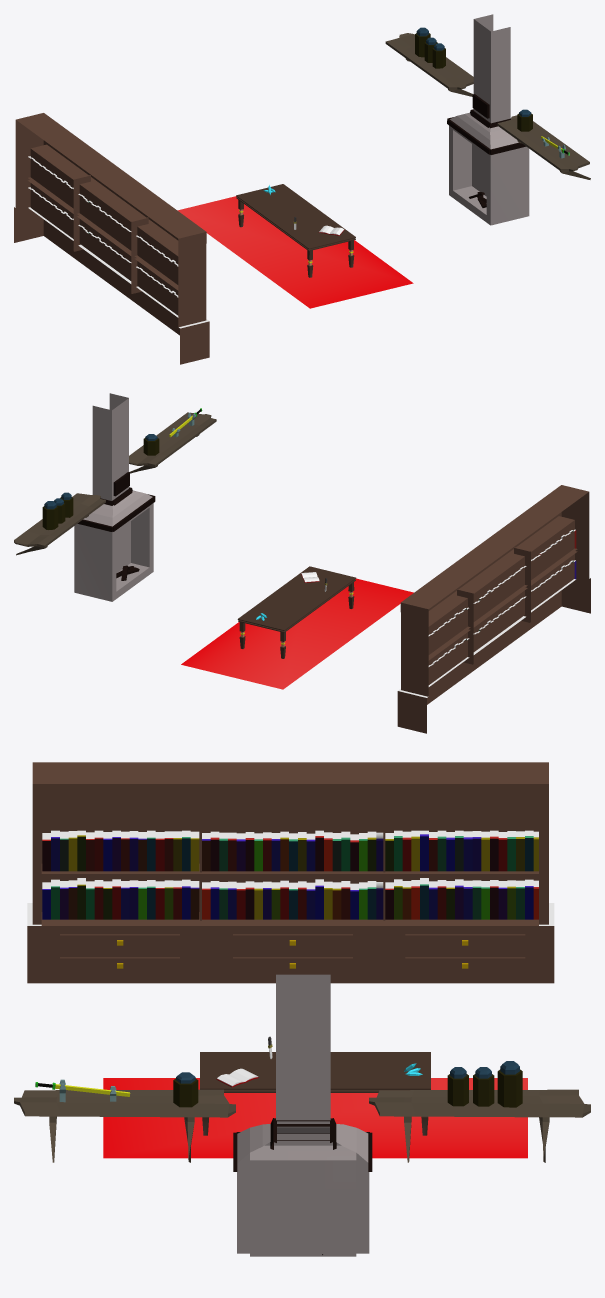
File: Elementos.fbx
3 renders of one model, top to bottom at view 1: azimuth 30°, elevation 25°; view 2: azimuth 150°, elevation 25°; view 3: azimuth 270°, elevation 25°, orthographic. The views are drawn at different scales.
Visible parts, largest first — view 1: Elementos; view 2: Elementos; view 3: Elementos.
Part boxes in pixels (x1,y1,x2,y2): Elementos: [14, 14, 590, 364]; Elementos: [14, 393, 590, 733]; Elementos: [14, 762, 590, 1256].
Bounding box in the file's own units: 1160 × 482 × 872.
